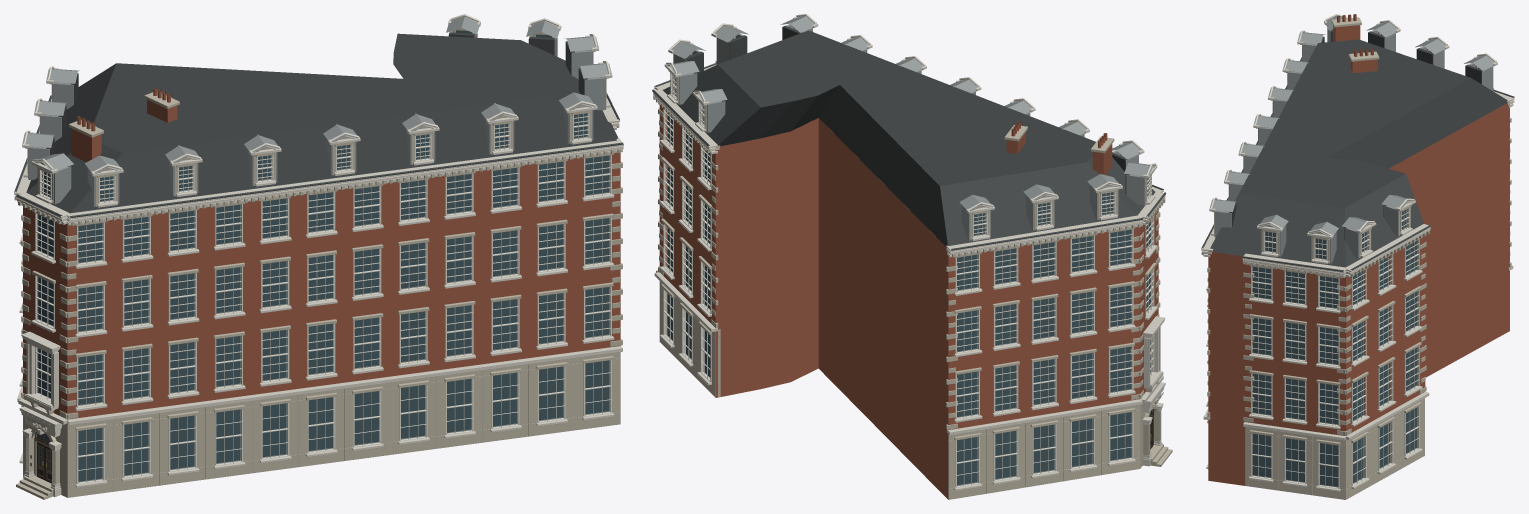
File: cow-exterior-a65cbaf80ebb.glb
3 renders of one model, left to right at view 1: azimuth 30°, elevation 25°; view 2: azimuth 150°, elevation 25°; view 3: azimuth 270°, elevation 25°, orthographic. The views are drawn at different scales.
Parts seen in each view (by area): view 1: COW.001; view 2: COW.001; view 3: COW.001.
Part boxes in pixels (box(x1,y1,x2,y2)): COW.001: box(14, 14, 623, 499); COW.001: box(652, 14, 1172, 499); COW.001: box(1201, 14, 1514, 499).
Size of the model in its own units: 38.37 by 22.48 by 22.3.
